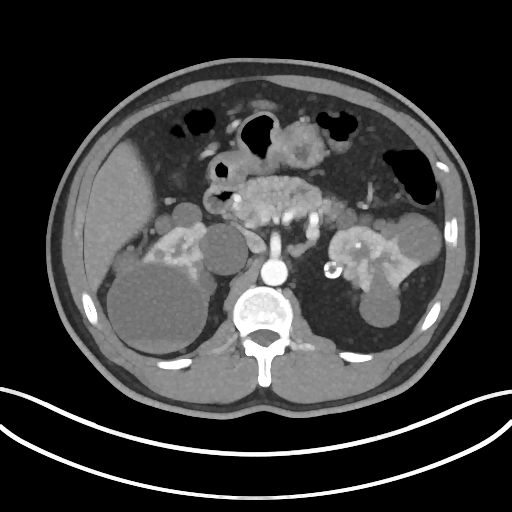Lesion: (99, 263, 212, 358)
